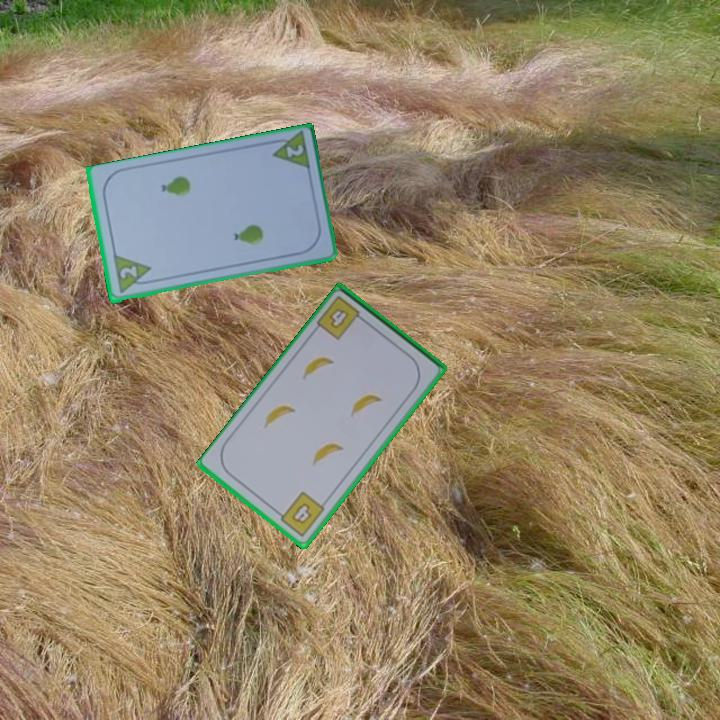2p: (109, 253, 155, 297), (282, 141, 306, 160)
4b: (273, 488, 328, 540), (313, 292, 369, 343)
